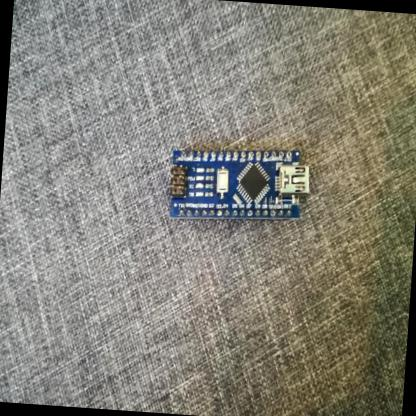Arduino_Nano: (163, 140, 315, 236)
